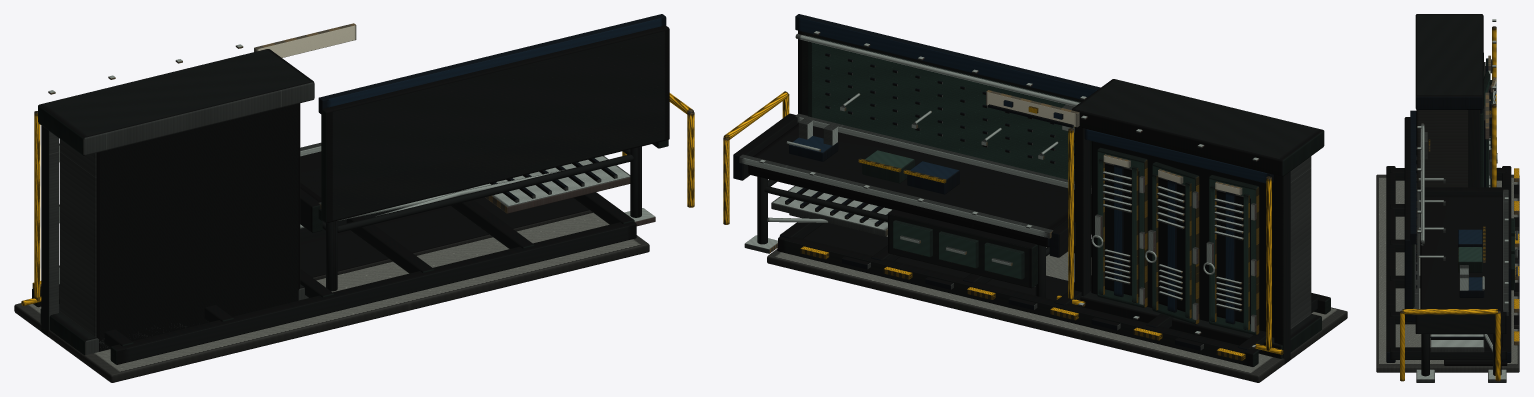
The model's file is level1_apd_industrial_workbench_locker_uv.glb.
The picture shows the model from 3 angles, left to right: view 1: azimuth 30°, elevation 25°; view 2: azimuth 150°, elevation 25°; view 3: azimuth 270°, elevation 25°; orthographic projection. The views are drawn at different scales.
Visible parts, largest first — view 1: L1APD_V2_Locker_Welded_Back_Box, L1APD_V2_Back_Pegboard_Frame, L1APD_V2_Locker_Top_Cap_Heavy, L1APD_V2_Concrete_Service_Pad, L1APD_V2_Skid_Long_Rail_-8.32, L1APD_V2_Black_AntiSlip_Rubber_Mat, L1APD_V2_Back_Top_Rail_Blue, L1APD_V2_Locker_Left_Side_Column, L1APD_V2_Workbench_Open_Shelf_Galv_Pan, L1APD_V2_Workbench_FrontBack_Tube_-7.87, L1APD_V2_Small_Industrial_Nameplate_NoText, L1APD_V2_Skid_Crossmember_-5.22 (+10 smaller); view 2: L1APD_V2_Back_Pegboard_Painted_Panel, L1APD_V2_Workbench_Black_Rubberized_Top, L1APD_V2_Locker_Top_Cap_Heavy, L1APD_V2_Concrete_Service_Pad, L1APD_V2_Locker_Welded_Back_Box, L1APD_V2_Skid_Long_Rail_-6.82, L1APD_V2_Back_Top_Rail_Blue, L1APD_V2_Workbench_Dark_Drawer_Case, L1APD_V2_Locker_Toe_Kick_Recess, L1APD_V2_Workbench_Galv_Edge_Band_Front, L1APD_V2_Locker_Left_Side_Column, L1APD_V2_Black_AntiSlip_Rubber_Mat (+36 smaller); view 3: L1APD_V2_Workbench_Black_Rubberized_Top, L1APD_V2_Locker_Top_Cap_Heavy, L1APD_V2_Concrete_Service_Pad, L1APD_V2_Locker_Welded_Back_Box, L1APD_V2_Workbench_Right_End_Cap, L1APD_V2_Skid_Long_Rail_-8.32, L1APD_V2_Back_Pegboard_Frame, L1APD_V2_Locker_Right_Side_Column, L1APD_V2_Skid_Crossmember_-3.02, L1APD_V2_Back_Top_Rail_Blue, L1APD_V2_Workbench_Open_Shelf_Galv_Pan, L1APD_V2_Workbench_Left_End_Cap (+32 smaller).
Boxes of the visible parts, bbox=[...] form: L1APD_V2_Locker_Welded_Back_Box: bbox=[59, 103, 300, 351]; L1APD_V2_Back_Pegboard_Frame: bbox=[321, 25, 669, 223]; L1APD_V2_Locker_Top_Cap_Heavy: bbox=[38, 49, 314, 155]; L1APD_V2_Concrete_Service_Pad: bbox=[14, 212, 649, 382]; L1APD_V2_Skid_Long_Rail_-8.32: bbox=[110, 222, 636, 364]; L1APD_V2_Black_AntiSlip_Rubber_Mat: bbox=[300, 197, 592, 280]; L1APD_V2_Back_Top_Rail_Blue: bbox=[318, 14, 666, 114]; L1APD_V2_Locker_Left_Side_Column: bbox=[41, 125, 58, 336]; L1APD_V2_Workbench_Open_Shelf_Galv_Pan: bbox=[485, 156, 630, 213]; L1APD_V2_Workbench_FrontBack_Tube_-7.87: bbox=[337, 154, 633, 232]; L1APD_V2_Small_Industrial_Nameplate_NoText: bbox=[254, 23, 356, 57]; L1APD_V2_Skid_Crossmember_-5.22: bbox=[346, 216, 434, 273]; L1APD_V2_Back_Pegboard_Painted_Panel: bbox=[808, 36, 1091, 184]; L1APD_V2_Workbench_Black_Rubberized_Top: bbox=[748, 123, 1091, 247]; L1APD_V2_Locker_Top_Cap_Heavy: bbox=[1072, 79, 1324, 176]; L1APD_V2_Concrete_Service_Pad: bbox=[767, 235, 1347, 382]; L1APD_V2_Locker_Welded_Back_Box: bbox=[1091, 141, 1311, 337]; L1APD_V2_Skid_Long_Rail_-6.82: bbox=[778, 236, 1258, 366]; L1APD_V2_Back_Top_Rail_Blue: bbox=[795, 14, 1100, 99]; L1APD_V2_Workbench_Dark_Drawer_Case: bbox=[888, 209, 1037, 288]; L1APD_V2_Locker_Toe_Kick_Recess: bbox=[1078, 289, 1321, 358]; L1APD_V2_Workbench_Galv_Edge_Band_Front: bbox=[739, 154, 1053, 238]; L1APD_V2_Locker_Left_Side_Column: bbox=[1274, 171, 1290, 364]; L1APD_V2_Black_AntiSlip_Rubber_Mat: bbox=[777, 223, 1074, 300]; L1APD_V2_Workbench_Black_Rubberized_Top: bbox=[1420, 195, 1502, 311]; L1APD_V2_Locker_Top_Cap_Heavy: bbox=[1415, 14, 1483, 109]; L1APD_V2_Concrete_Service_Pad: bbox=[1376, 174, 1519, 372]; L1APD_V2_Locker_Welded_Back_Box: bbox=[1416, 109, 1467, 239]; L1APD_V2_Workbench_Right_End_Cap: bbox=[1415, 311, 1506, 333]; L1APD_V2_Skid_Long_Rail_-8.32: bbox=[1386, 166, 1395, 362]; L1APD_V2_Back_Pegboard_Frame: bbox=[1404, 117, 1412, 321]; L1APD_V2_Locker_Right_Side_Column: bbox=[1468, 110, 1480, 187]; L1APD_V2_Skid_Crossmember_-3.02: bbox=[1390, 347, 1507, 359]; L1APD_V2_Back_Top_Rail_Blue: bbox=[1410, 110, 1416, 244]; L1APD_V2_Workbench_Open_Shelf_Galv_Pan: bbox=[1430, 334, 1484, 352]; L1APD_V2_Workbench_Left_End_Cap: bbox=[1417, 187, 1506, 209].
Size of the model in its own units: 6.68 by 2.4 by 1.86.
1 material, 1 textured.
